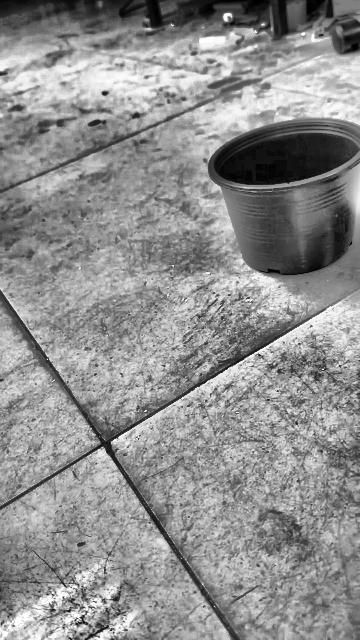pot: (207, 118, 360, 275)
